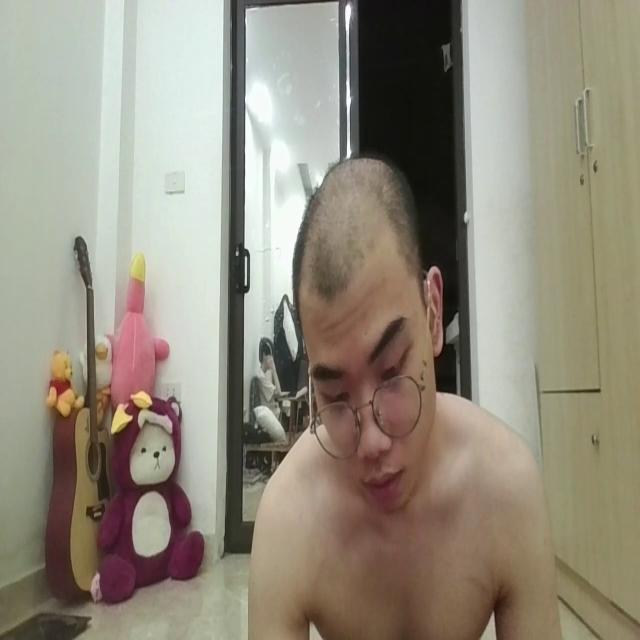student: (242, 126, 573, 640)
